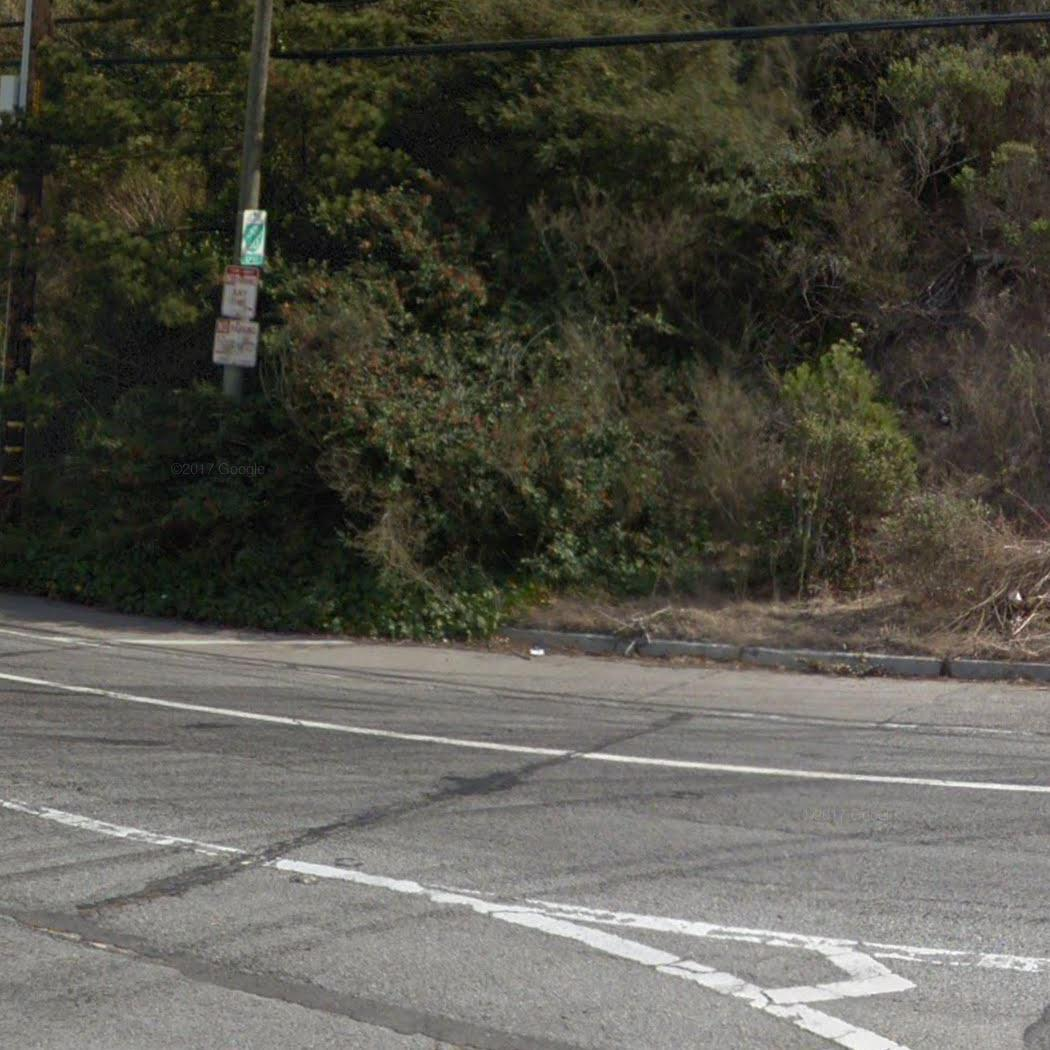No Parking: (211, 316, 261, 368)
No Parking Anytime: (220, 262, 260, 321)
